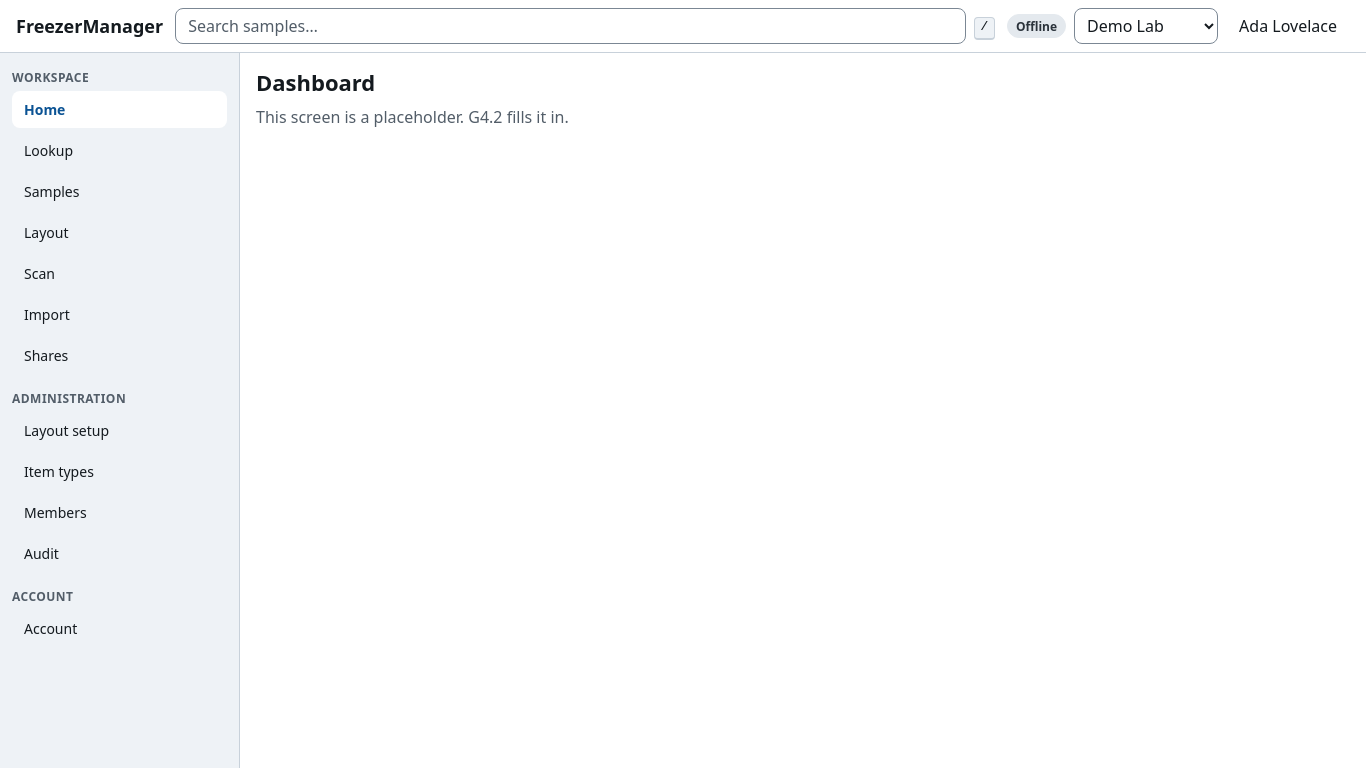
Test case: session lifecycle (G2.1) › returns to the sign-in screen when a request says the session is over
Click the link "Samples".
click(52, 192)  # box [24, 182, 80, 201]
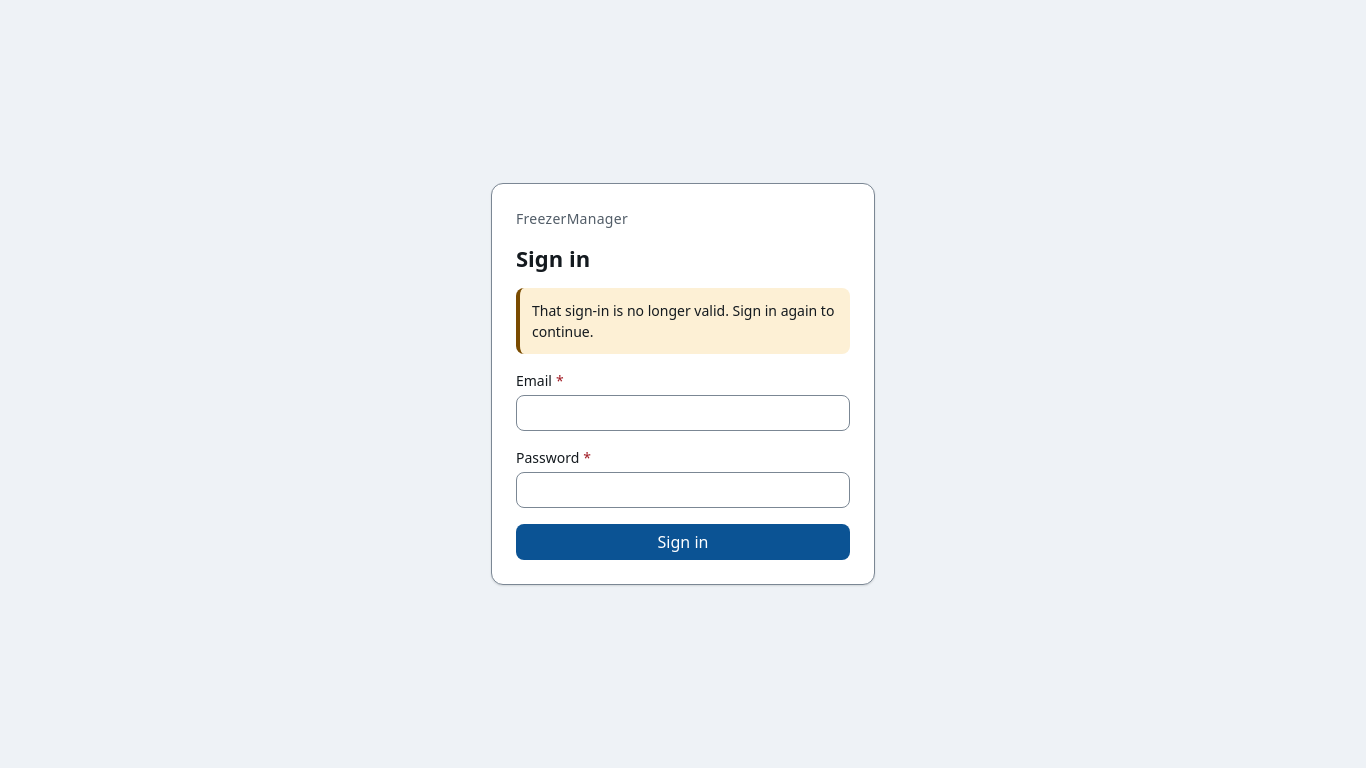
Now the heading "Sign in" is shown, box [516, 243, 590, 273]
